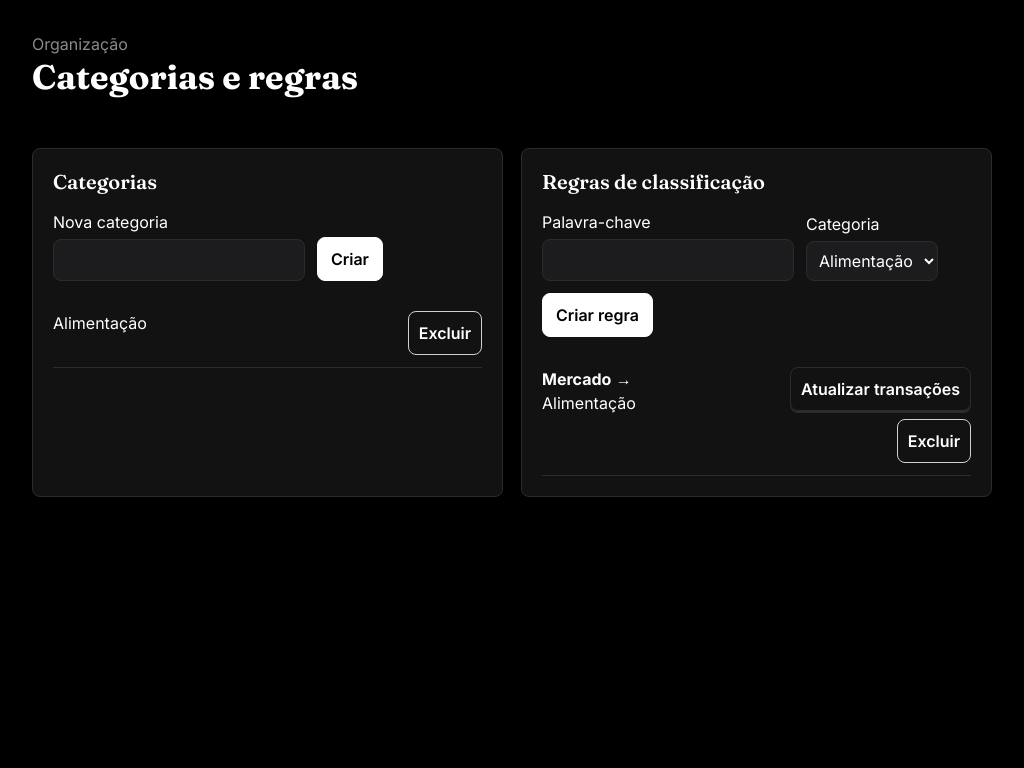
Test: CategoriesPage › confirms, applies a rule, and reports the changed transaction count
This screenshot has width=1024, height=768.
Click the button with aria-label "Atualizar transações para Mercado" at (880, 389), box [790,367,971,411]
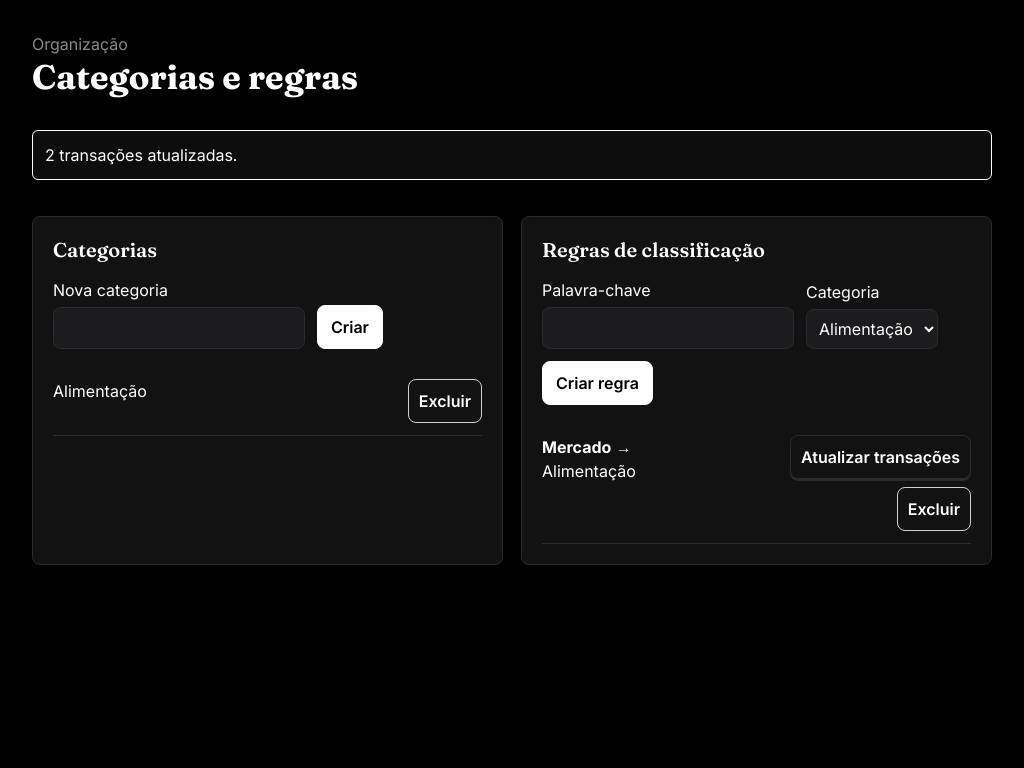
Result: the message reads "2 transações atualizadas." at [45,145,238,165]
